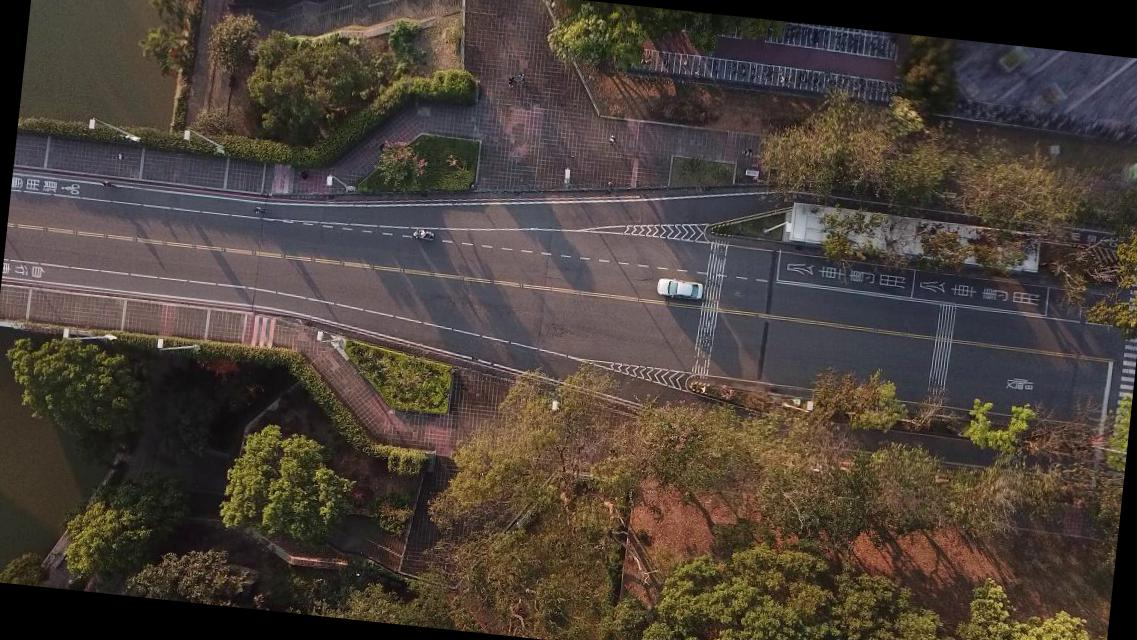vehicle: (655, 276, 705, 301)
